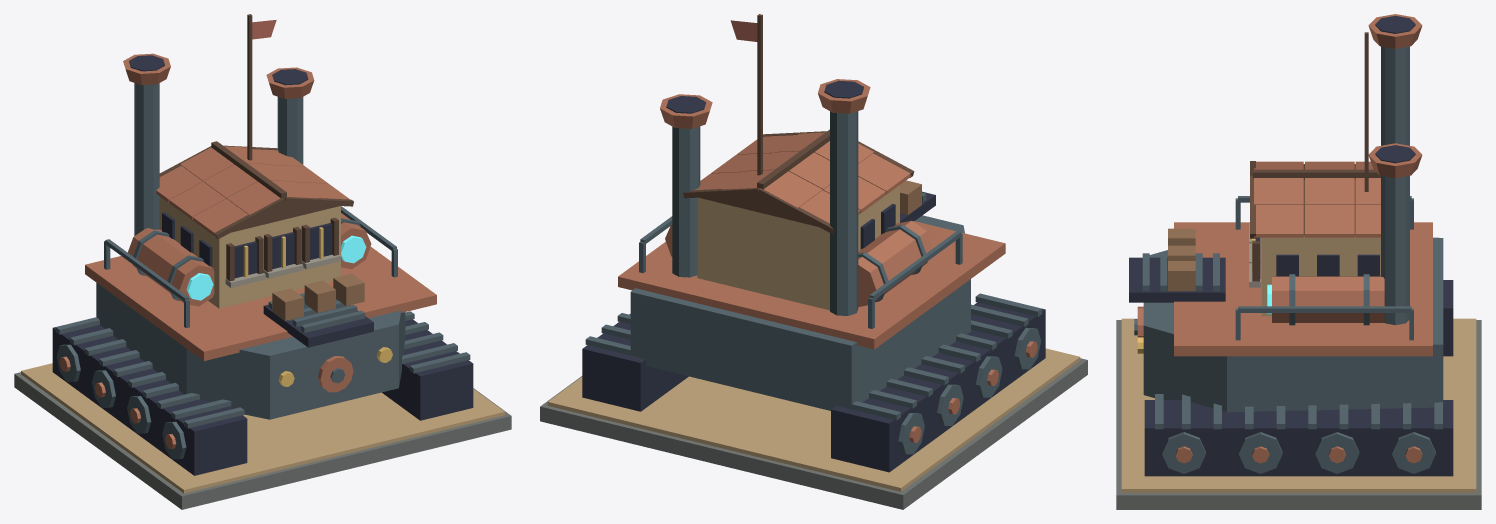
The model's file is ENV_Landmark_sandship_LOD1.glb.
The picture shows the model from 3 angles, left to right: view 1: azimuth 30°, elevation 25°; view 2: azimuth 150°, elevation 25°; view 3: azimuth 270°, elevation 25°; orthographic projection. The views are drawn at different scales.
Parts seen in each view (by area): view 1: ENV_Landmark_sandship_LOD1_s3-6_iron, ENV_Landmark_sandship_LOD1_s3-6_copper, ENV_Landmark_sandship_LOD1_s3-6_sand, ENV_Landmark_sandship_LOD1_s3-6_ink, ENV_Landmark_sandship_LOD1_s3-6_stoneDark, ENV_Landmark_sandship_LOD1_s5-6_iron, ENV_Landmark_sandship_LOD1_s3-6_woodDark, ENV_Landmark_sandship_LOD1_s4-6_copper, ENV_Landmark_sandship_LOD1_s6-6_woodLight, ENV_Landmark_sandship_LOD1_s4-6_iron, ENV_Landmark_sandship_LOD1_s5-6_copper, ENV_Landmark_sandship_LOD1_s4-6_cyan (+4 smaller); view 2: ENV_Landmark_sandship_LOD1_s3-6_iron, ENV_Landmark_sandship_LOD1_s3-6_sand, ENV_Landmark_sandship_LOD1_s3-6_copper, ENV_Landmark_sandship_LOD1_s3-6_ink, ENV_Landmark_sandship_LOD1_s3-6_stoneDark, ENV_Landmark_sandship_LOD1_s5-6_iron, ENV_Landmark_sandship_LOD1_s3-6_woodDark, ENV_Landmark_sandship_LOD1_s4-6_copper, ENV_Landmark_sandship_LOD1_s4-6_iron, ENV_Landmark_sandship_LOD1_s5-6_copper, ENV_Landmark_sandship_LOD1_s5-6_ink, ENV_Landmark_sandship_LOD1_s6-6_woodDark (+1 smaller); view 3: ENV_Landmark_sandship_LOD1_s3-6_iron, ENV_Landmark_sandship_LOD1_s3-6_copper, ENV_Landmark_sandship_LOD1_s3-6_ink, ENV_Landmark_sandship_LOD1_s3-6_sand, ENV_Landmark_sandship_LOD1_s3-6_stoneDark, ENV_Landmark_sandship_LOD1_s5-6_iron, ENV_Landmark_sandship_LOD1_s4-6_copper, ENV_Landmark_sandship_LOD1_s4-6_iron, ENV_Landmark_sandship_LOD1_s3-6_woodDark, ENV_Landmark_sandship_LOD1_s5-6_copper, ENV_Landmark_sandship_LOD1_s6-6_woodLight, ENV_Landmark_sandship_LOD1_s5-6_ink (+1 smaller).
Boxes of the visible parts, box(x1,y1,x2,y2) form: ENV_Landmark_sandship_LOD1_s3-6_iron: box(55, 283, 470, 459); ENV_Landmark_sandship_LOD1_s3-6_copper: box(59, 146, 436, 448); ENV_Landmark_sandship_LOD1_s3-6_sand: box(21, 196, 504, 493); ENV_Landmark_sandship_LOD1_s3-6_ink: box(52, 212, 473, 475); ENV_Landmark_sandship_LOD1_s3-6_stoneDark: box(14, 372, 511, 509); ENV_Landmark_sandship_LOD1_s5-6_iron: box(134, 83, 303, 235); ENV_Landmark_sandship_LOD1_s3-6_woodDark: box(159, 141, 353, 281); ENV_Landmark_sandship_LOD1_s4-6_copper: box(128, 213, 371, 306); ENV_Landmark_sandship_LOD1_s6-6_woodLight: box(272, 273, 364, 320); ENV_Landmark_sandship_LOD1_s4-6_iron: box(104, 206, 397, 328); ENV_Landmark_sandship_LOD1_s5-6_copper: box(123, 53, 314, 98); ENV_Landmark_sandship_LOD1_s4-6_cyan: box(186, 235, 366, 300); ENV_Landmark_sandship_LOD1_s3-6_iron: box(585, 192, 1042, 454); ENV_Landmark_sandship_LOD1_s3-6_sand: box(547, 185, 1080, 491); ENV_Landmark_sandship_LOD1_s3-6_copper: box(618, 132, 1037, 442); ENV_Landmark_sandship_LOD1_s3-6_ink: box(582, 191, 1045, 472); ENV_Landmark_sandship_LOD1_s3-6_stoneDark: box(540, 358, 1087, 509); ENV_Landmark_sandship_LOD1_s5-6_iron: box(672, 111, 858, 315); ENV_Landmark_sandship_LOD1_s3-6_woodDark: box(683, 129, 914, 234); ENV_Landmark_sandship_LOD1_s4-6_copper: box(665, 220, 932, 306); ENV_Landmark_sandship_LOD1_s4-6_iron: box(639, 216, 962, 328); ENV_Landmark_sandship_LOD1_s5-6_copper: box(660, 79, 870, 128); ENV_Landmark_sandship_LOD1_s5-6_ink: box(666, 80, 863, 113); ENV_Landmark_sandship_LOD1_s6-6_woodDark: box(757, 14, 762, 175); ENV_Landmark_sandship_LOD1_s3-6_iron: box(1134, 237, 1443, 473); ENV_Landmark_sandship_LOD1_s3-6_copper: box(1137, 161, 1432, 463); ENV_Landmark_sandship_LOD1_s3-6_ink: box(1129, 237, 1453, 476); ENV_Landmark_sandship_LOD1_s3-6_sand: box(1121, 236, 1476, 492); ENV_Landmark_sandship_LOD1_s3-6_stoneDark: box(1116, 320, 1481, 509); ENV_Landmark_sandship_LOD1_s5-6_iron: box(1381, 46, 1409, 325); ENV_Landmark_sandship_LOD1_s4-6_copper: box(1272, 276, 1384, 322); ENV_Landmark_sandship_LOD1_s4-6_iron: box(1235, 196, 1413, 340); ENV_Landmark_sandship_LOD1_s3-6_woodDark: box(1250, 161, 1380, 281); ENV_Landmark_sandship_LOD1_s5-6_copper: box(1368, 14, 1422, 178); ENV_Landmark_sandship_LOD1_s6-6_woodLight: box(1168, 228, 1195, 291); ENV_Landmark_sandship_LOD1_s5-6_ink: box(1375, 16, 1415, 163).
Size of the model in its own units: 9.2 by 9.76 by 8.1.
